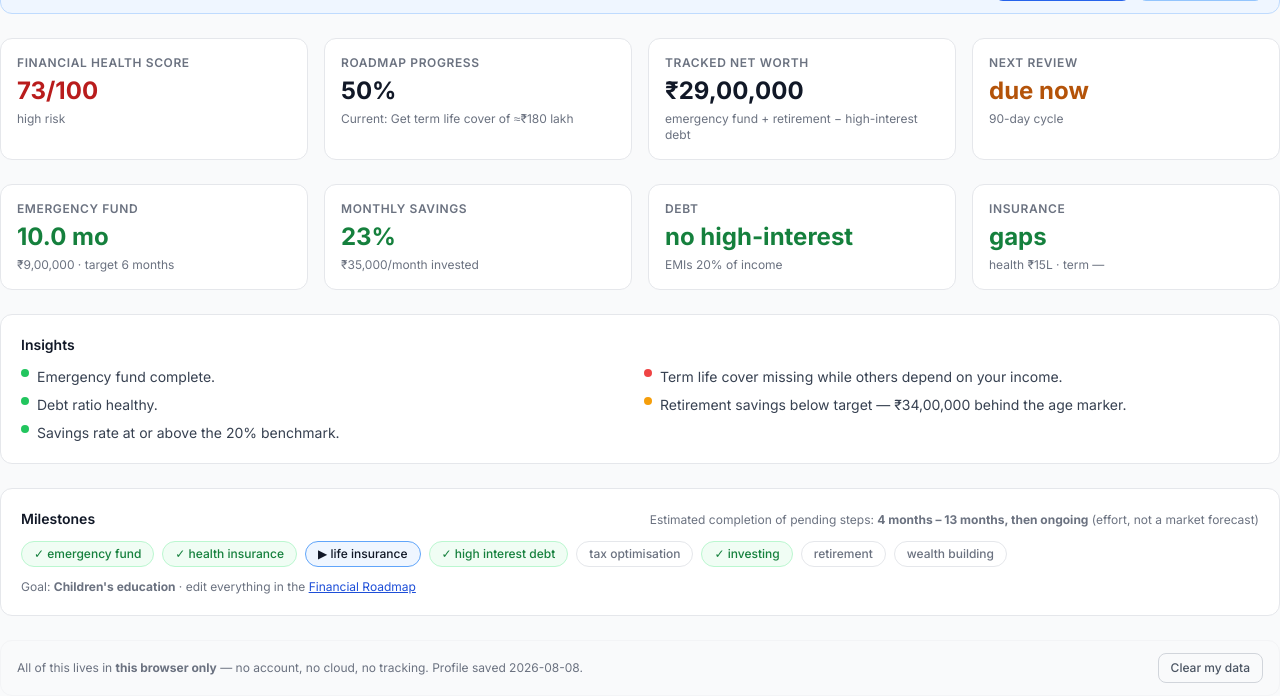
Test: FinancialDashboard › reset requires confirmation, then erases and returns to empty state
(page scrolled)
Click the button "Clear my data" at point(1210, 668), box [1158,653,1263,683]
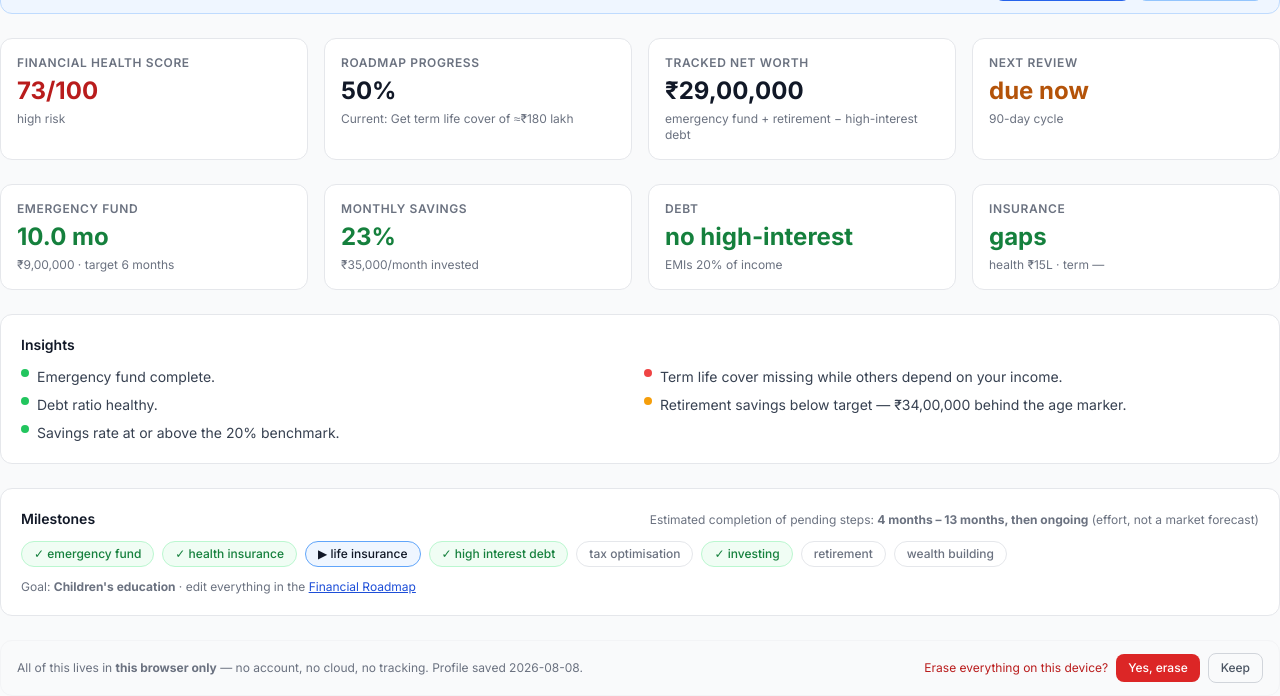
Now the text "Erase everything on this device?" is shown, box [924,660,1108,676]
Click the button "Yes, erase" at point(1158, 668), box [1116,654,1200,682]
(page scrolled)
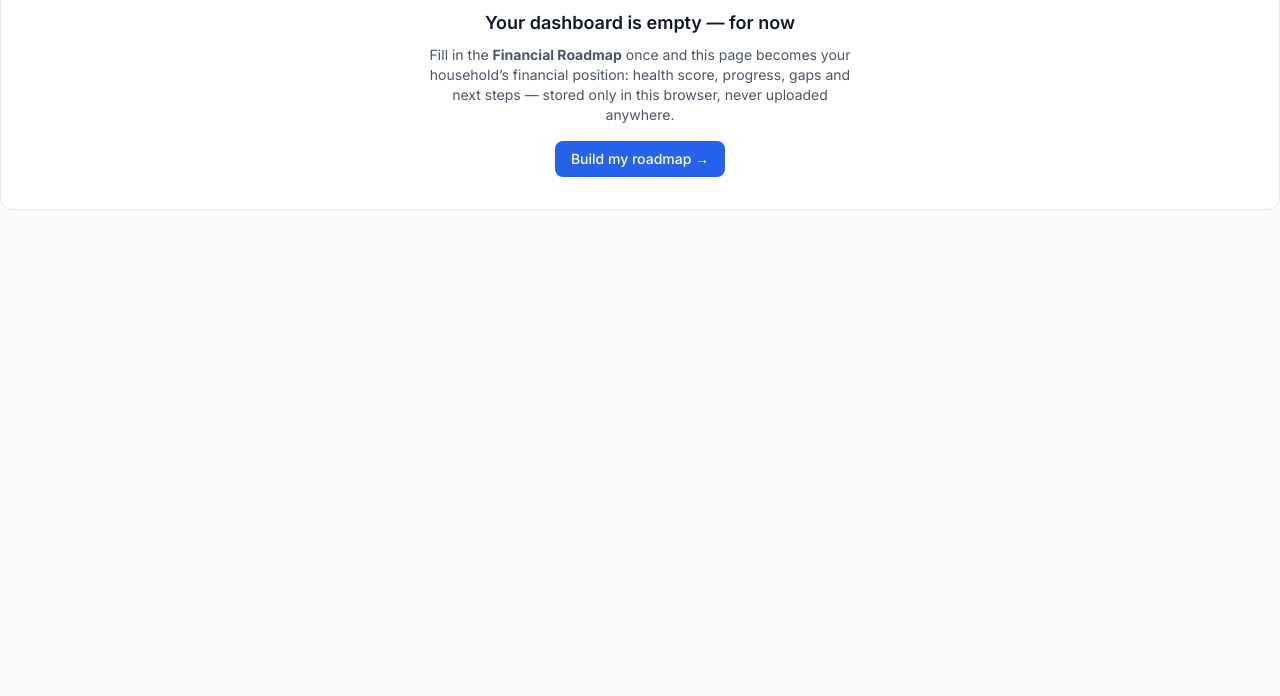
Now the heading "Your dashboard is empty — for now" is shown, box [485,12,795,33]
